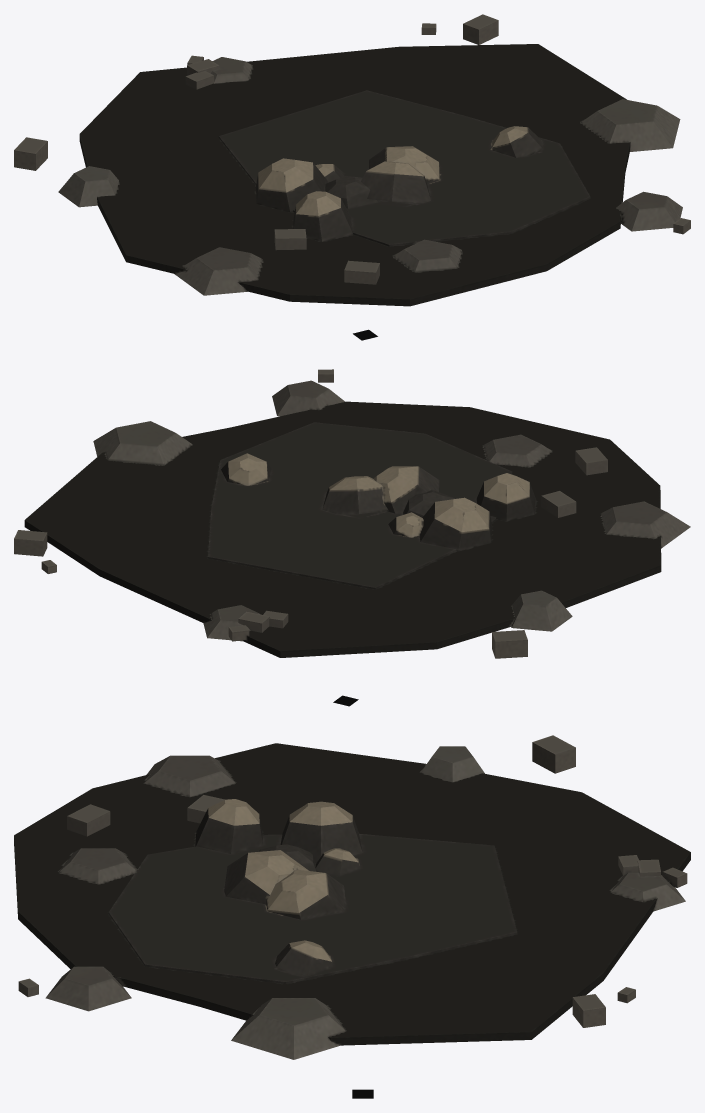
The model's file is deposit_1.fbx.
3 renders of one model, top to bottom at view 1: azimuth 30°, elevation 25°; view 2: azimuth 150°, elevation 25°; view 3: azimuth 270°, elevation 25°, orthographic. The views are drawn at different scales.
Visible parts, largest first — view 1: base_bar; view 2: base_bar; view 3: base_bar.
Boxes of the visible parts, x1,y1,x2,y2 form: base_bar: (14, 14, 690, 306); base_bar: (14, 369, 690, 658); base_bar: (14, 735, 690, 1059).
Size of the model in its own units: 679 by 243 by 628.
Materials: 2 (2 with a texture image).
